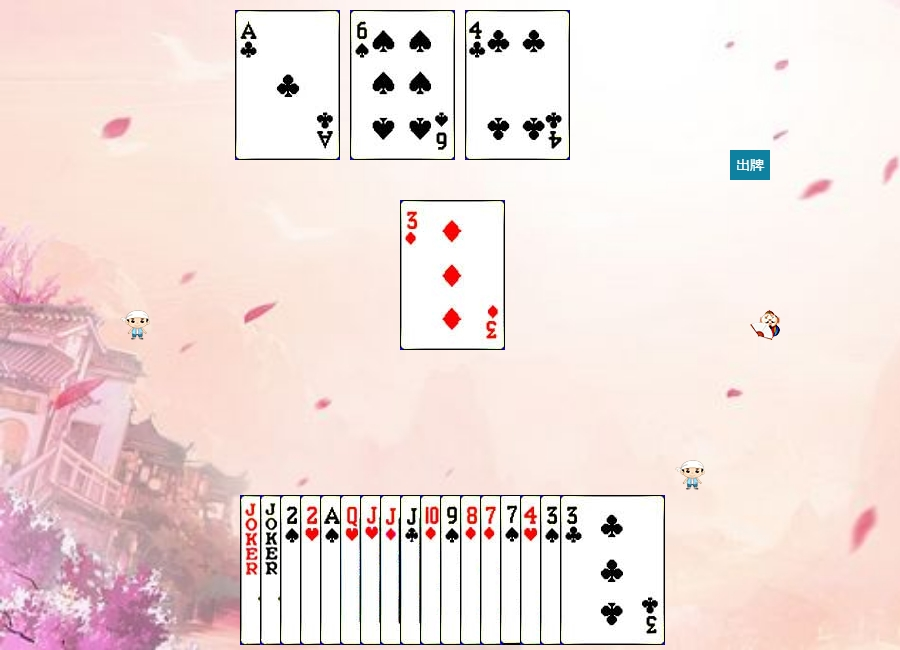10~1: (420, 495, 525, 645)
11~1: (380, 495, 485, 645)
11~2: (400, 495, 505, 645)
11~3: (360, 495, 465, 645)
12~3: (340, 495, 445, 645)
14~2: (235, 10, 340, 160)
14~4: (320, 495, 425, 645)
15~3: (300, 495, 405, 645)
15~4: (280, 495, 385, 645)
17~3: (260, 495, 365, 645)
18~4: (240, 495, 345, 645)
3~1: (400, 200, 505, 350)
3~2: (560, 495, 665, 645)
3~4: (540, 495, 645, 645)
4~2: (465, 10, 570, 160)
4~3: (520, 495, 625, 645)
6~4: (350, 10, 455, 160)
7~1: (480, 495, 585, 645)
7~4: (500, 495, 605, 645)
8~1: (460, 495, 565, 645)
9~4: (440, 495, 545, 645)
